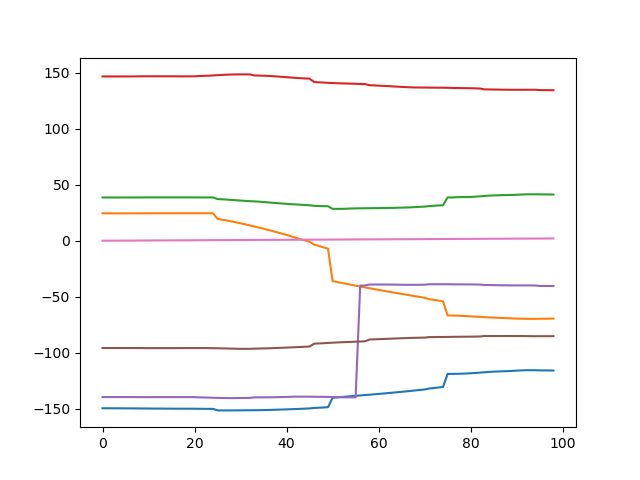Good_Bicep_Curl: (2, 1, 640, 480)
